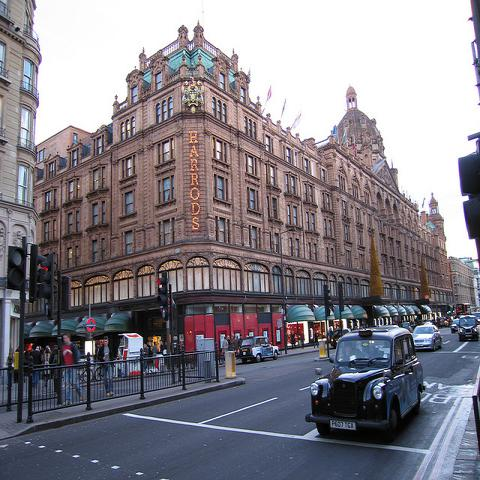car: (305, 324, 427, 441), (234, 336, 280, 366), (413, 324, 444, 351), (458, 314, 479, 342), (330, 327, 351, 349), (399, 322, 413, 332), (451, 319, 460, 334)
